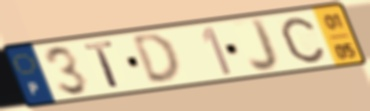1: (199, 24, 234, 77)
3: (43, 43, 90, 98)
C: (279, 15, 328, 65)
D: (129, 31, 184, 85)
J: (247, 17, 282, 74)
T: (81, 39, 123, 91)
